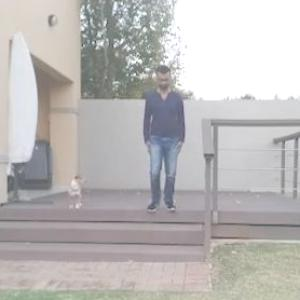follow: (149, 66, 187, 218)
